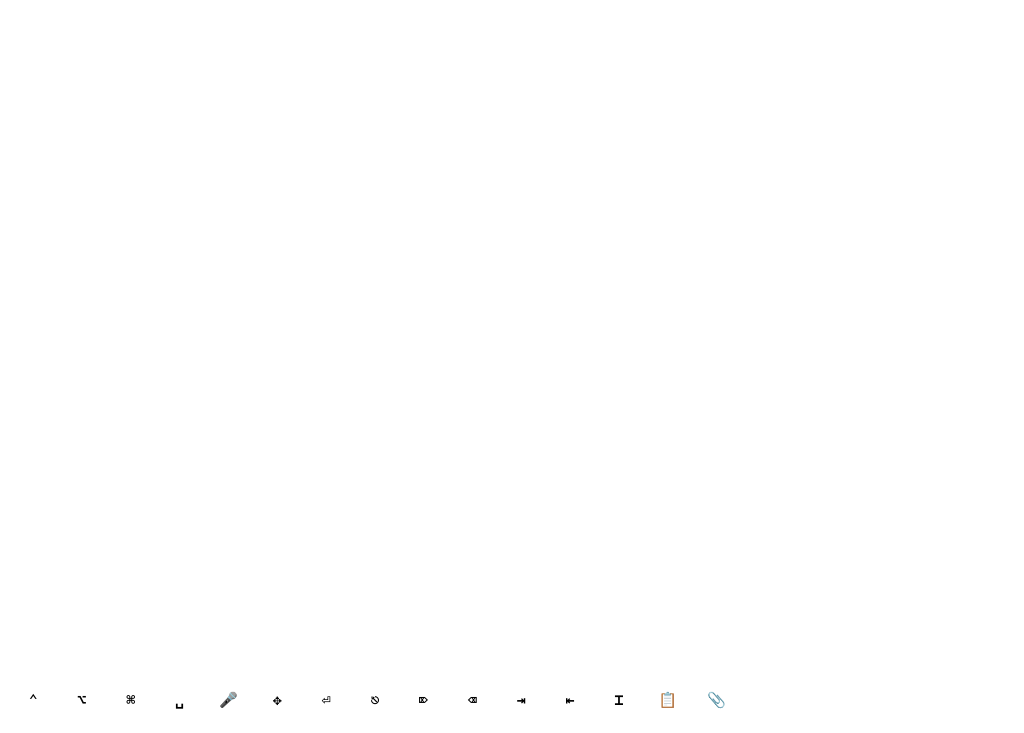
Test: TerminalView › shows a Copy button on Android in select mode and copies the xterm selection
The width and height of the screenshot is (1024, 733).
(page scrolled)
Step 1. Click the button named "select text" → (619, 700), box [597, 678, 641, 722]
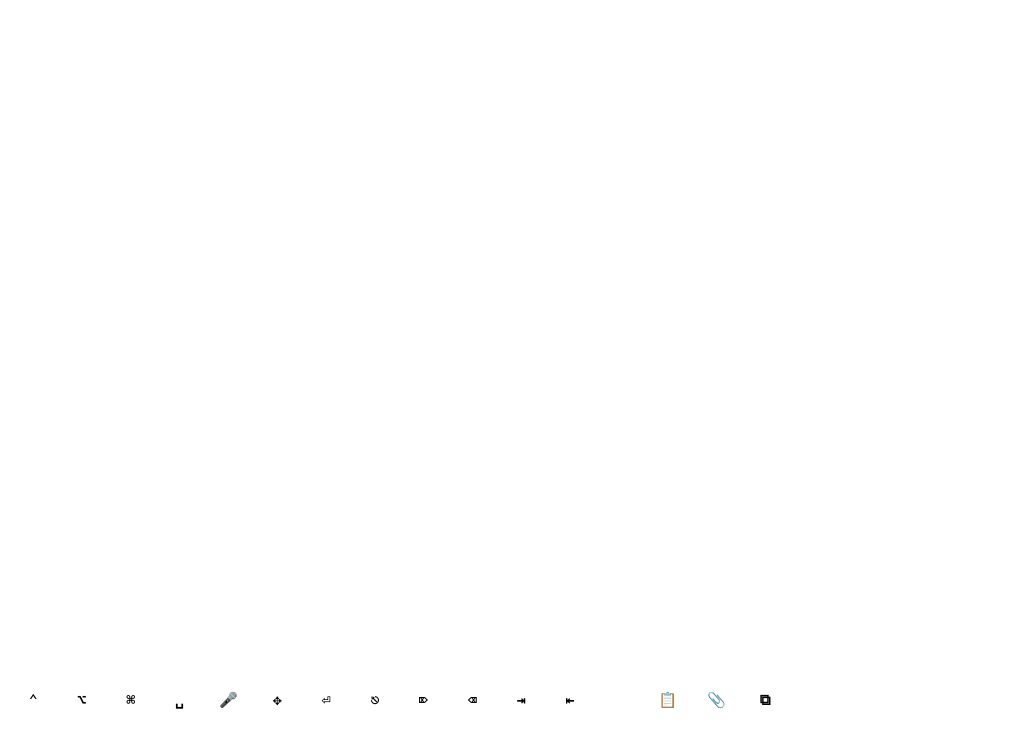
Step 2. Click the button named "copy" → (765, 700), box [743, 678, 787, 722]
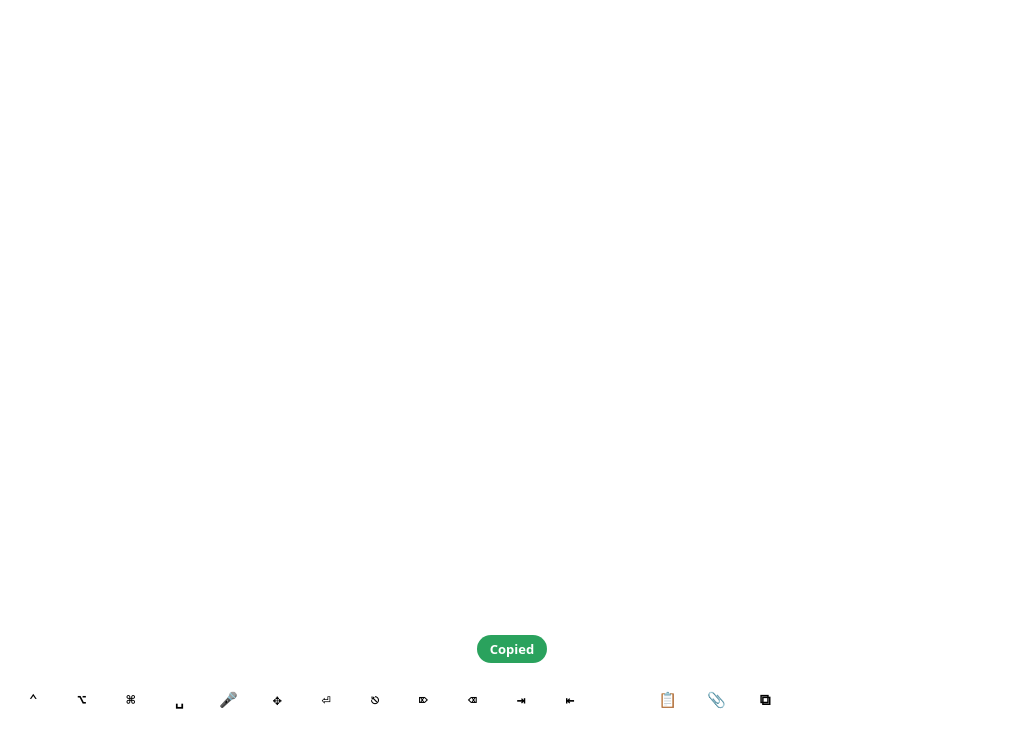
expect the text "Copied" is shown: met, box [477, 635, 547, 663]
